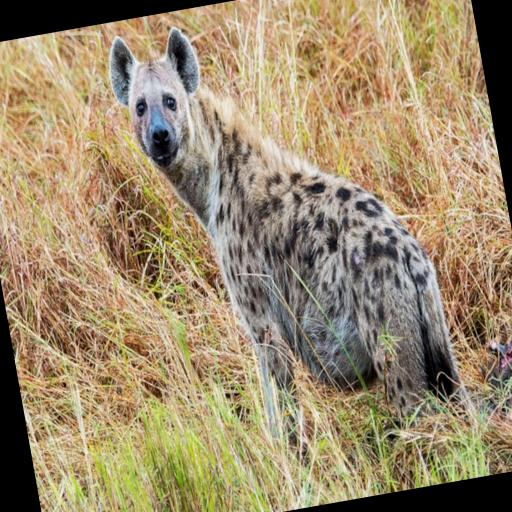hyenas: (91, 0, 512, 483)
